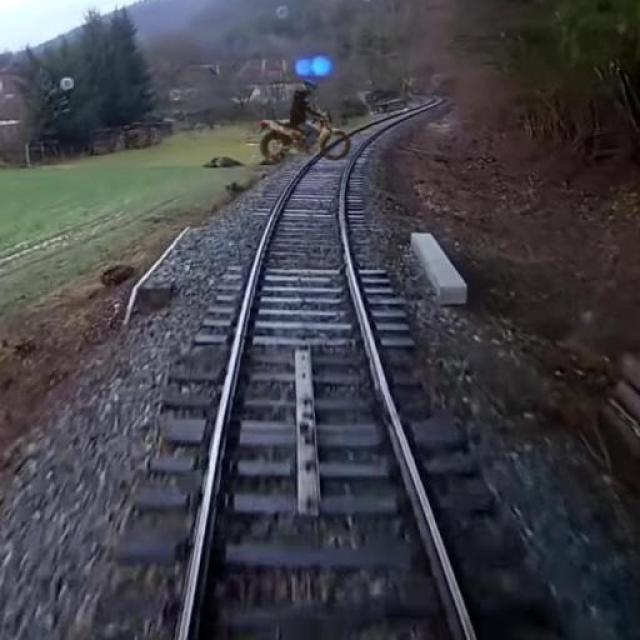vehicle: (253, 113, 358, 164)
